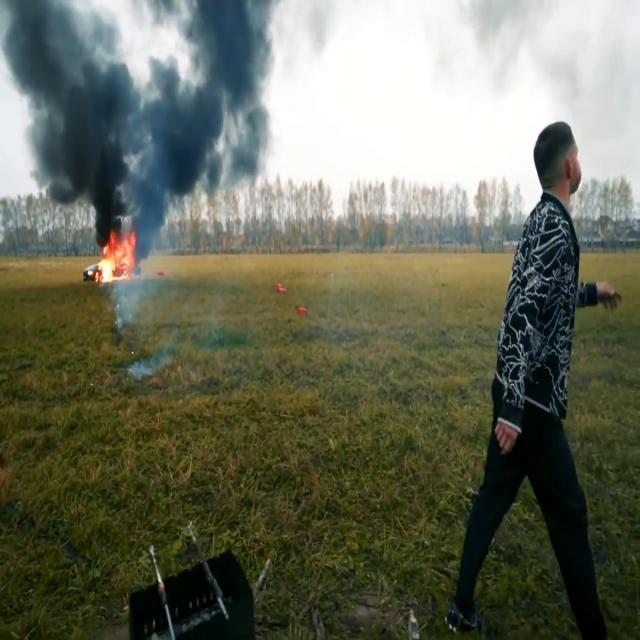Fire: (85, 238, 142, 286)
Smoke: (0, 0, 272, 249), (108, 268, 146, 332), (125, 356, 164, 384)
